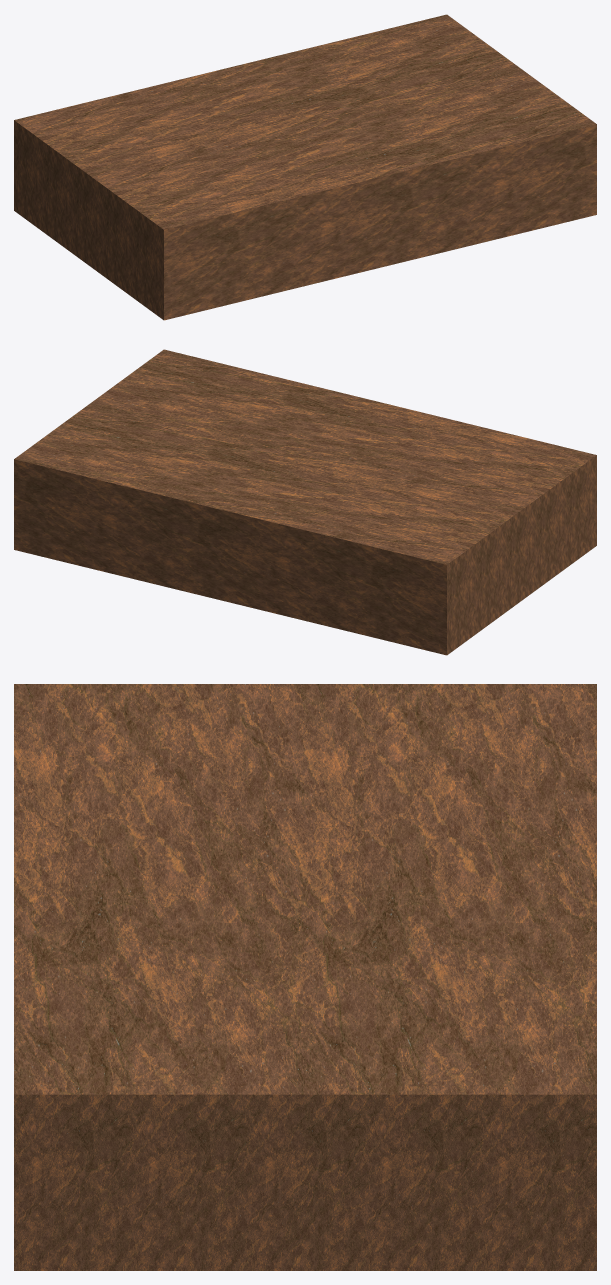
The model's file is Level2_10.glb.
The picture shows the model from 3 angles, top to bottom: view 1: azimuth 30°, elevation 25°; view 2: azimuth 150°, elevation 25°; view 3: azimuth 270°, elevation 25°; orthographic projection. The views are drawn at different scales.
Parts seen in each view (by area): view 1: Level2_10; view 2: Level2_10; view 3: Level2_10.
Boxes of the visible parts, left/top/right/bottom form: Level2_10: left=14, top=14, right=596, bottom=320; Level2_10: left=14, top=349, right=596, bottom=655; Level2_10: left=14, top=684, right=596, bottom=1270.
Bounding box in the file's own units: 10 × 2 × 6.
Materials: 1 (1 with a texture image).
